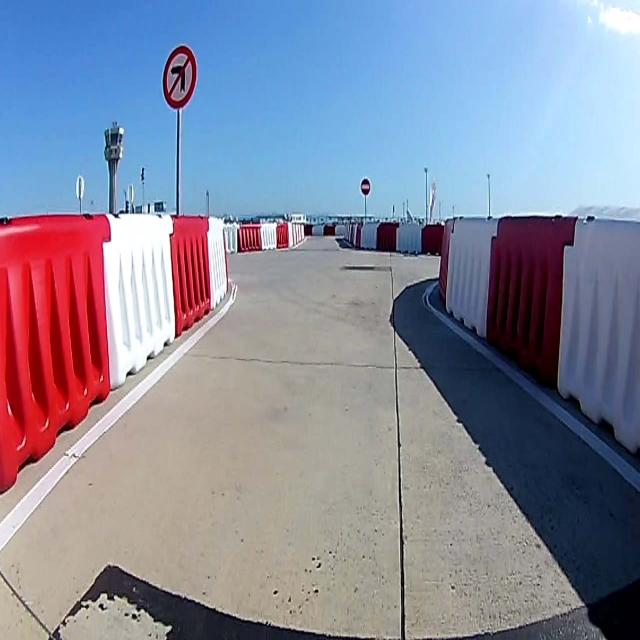girisyok: (360, 178, 370, 195)
soladonulmez: (161, 46, 196, 110)
